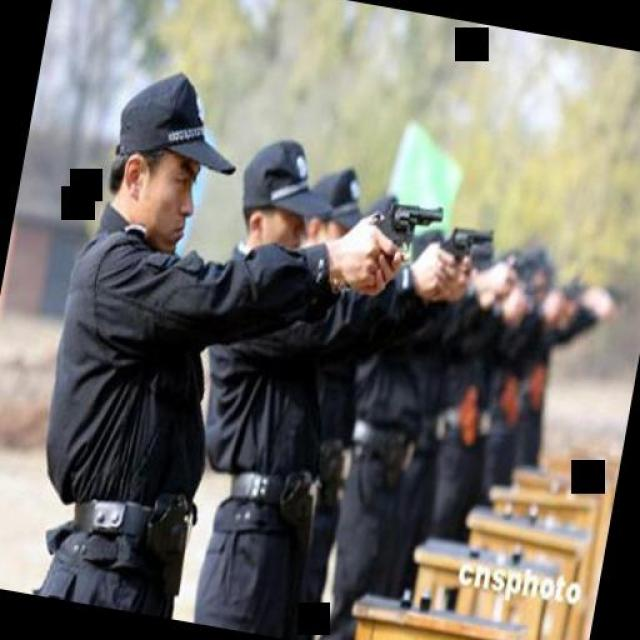gun: (364, 192, 441, 272), (432, 216, 493, 270)
